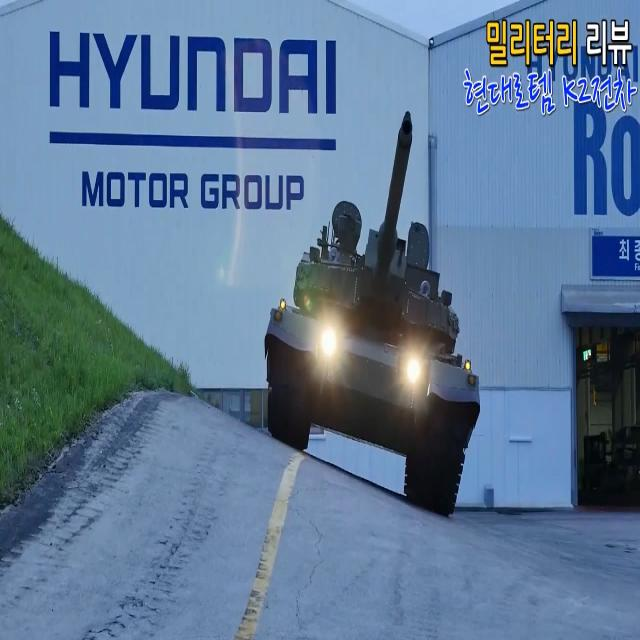korea tank: (263, 109, 481, 515)
